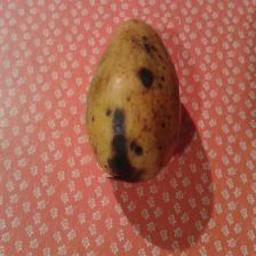Mango Semirotten: (81, 18, 180, 179)
